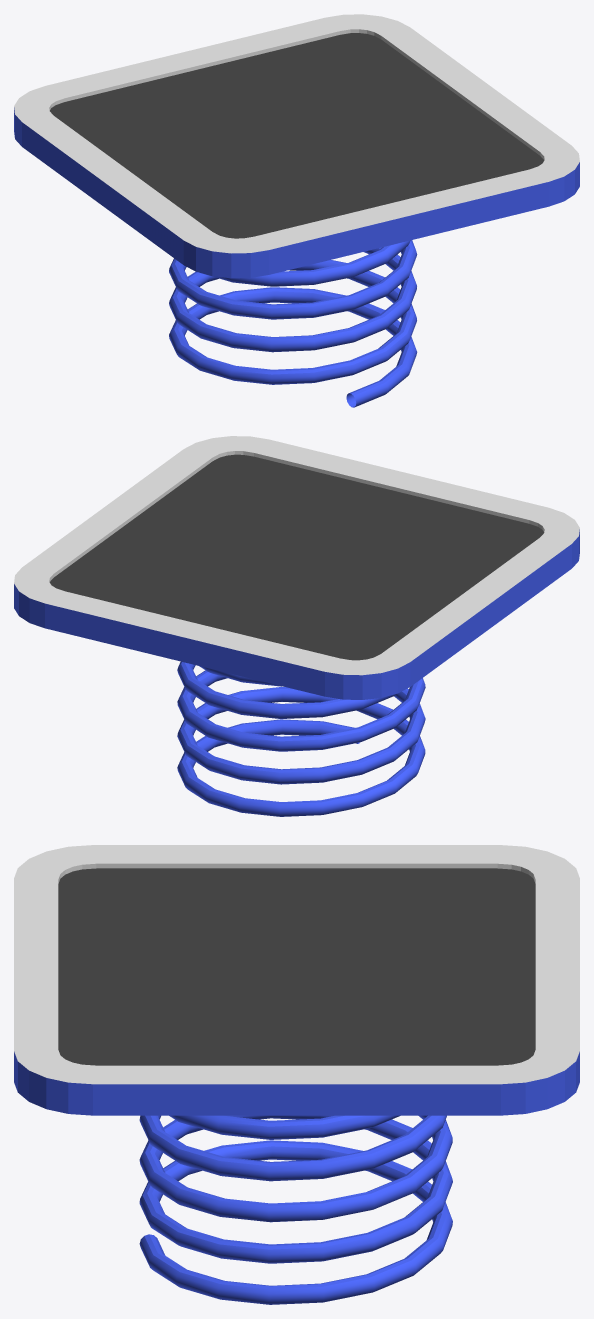
File: Spring Pad Square.fbx
The picture shows the model from 3 angles, top to bottom: view 1: azimuth 30°, elevation 25°; view 2: azimuth 150°, elevation 25°; view 3: azimuth 270°, elevation 25°; orthographic projection. The views are drawn at different scales.
Parts seen in each view (by area): view 1: Spring Pad Square; view 2: Spring Pad Square; view 3: Spring Pad Square.
Part boxes in pixels (left/top/right/bottom): Spring Pad Square: left=14, top=14, right=579, bottom=407; Spring Pad Square: left=14, top=436, right=579, bottom=816; Spring Pad Square: left=14, top=845, right=579, bottom=1304.
Bounding box in the file's own units: 2.02 × 1.14 × 2.02.
